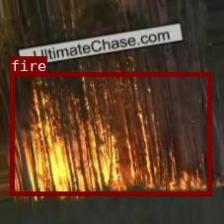fire: (10, 72, 210, 194)
